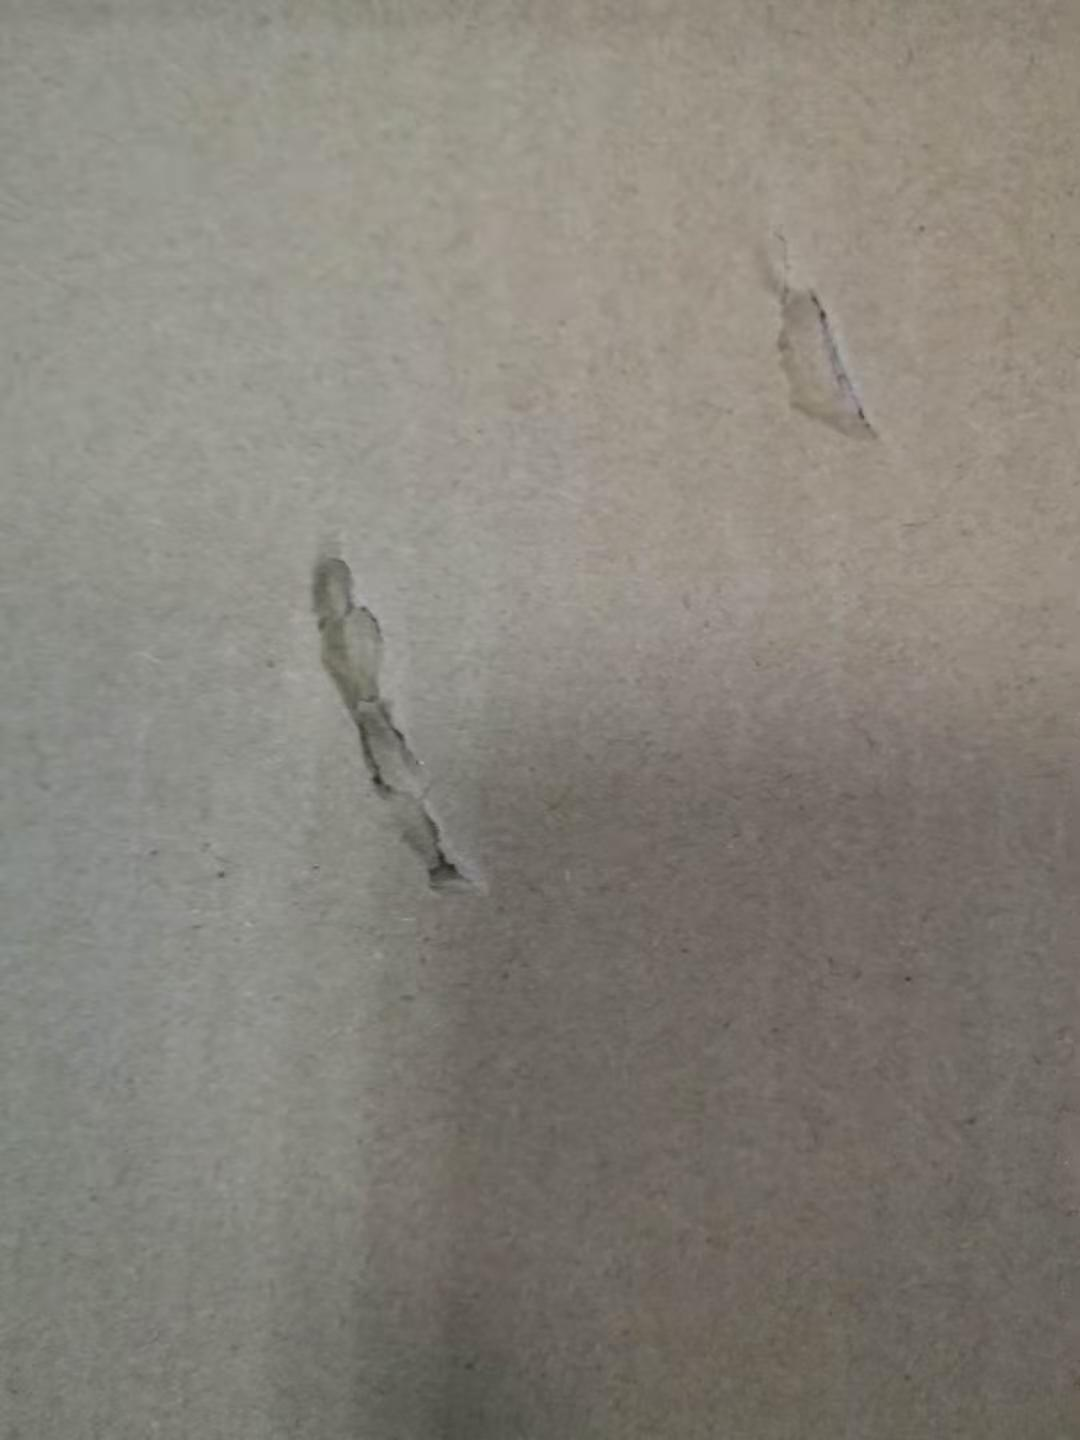defect: (248, 507, 531, 932), (712, 179, 923, 468)
